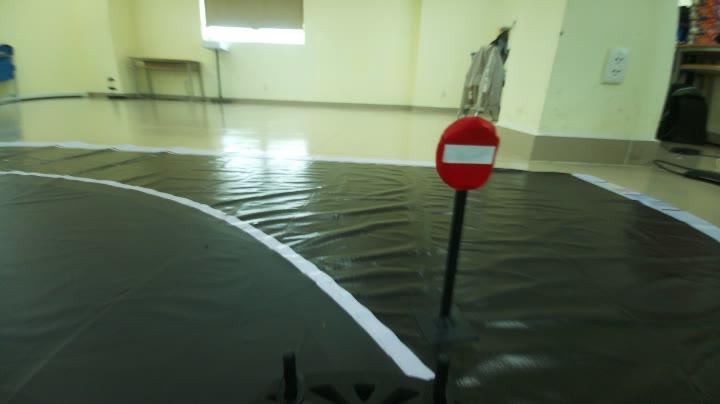no_entry: (436, 111, 508, 189)
